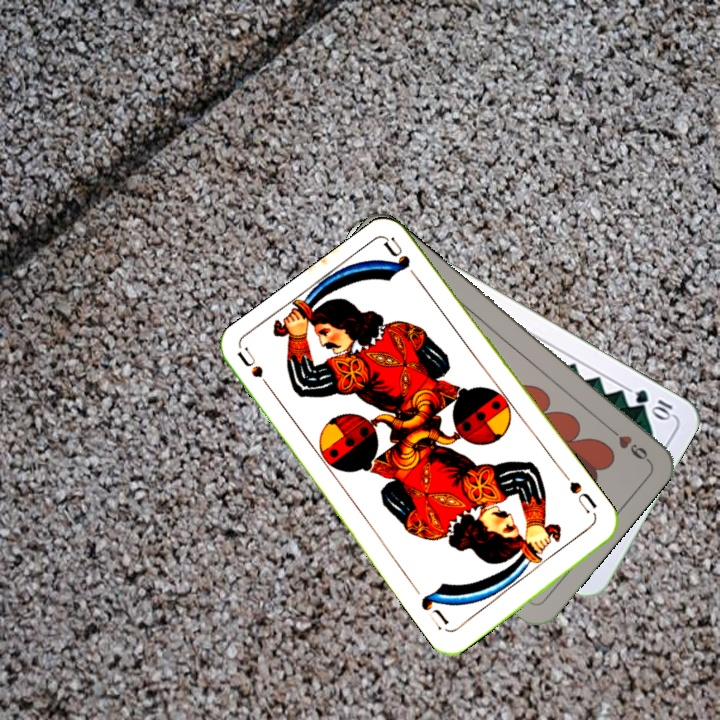G10: (631, 385, 676, 422)
H9: (602, 421, 652, 464)
SU: (234, 345, 278, 398), (560, 470, 599, 517)
